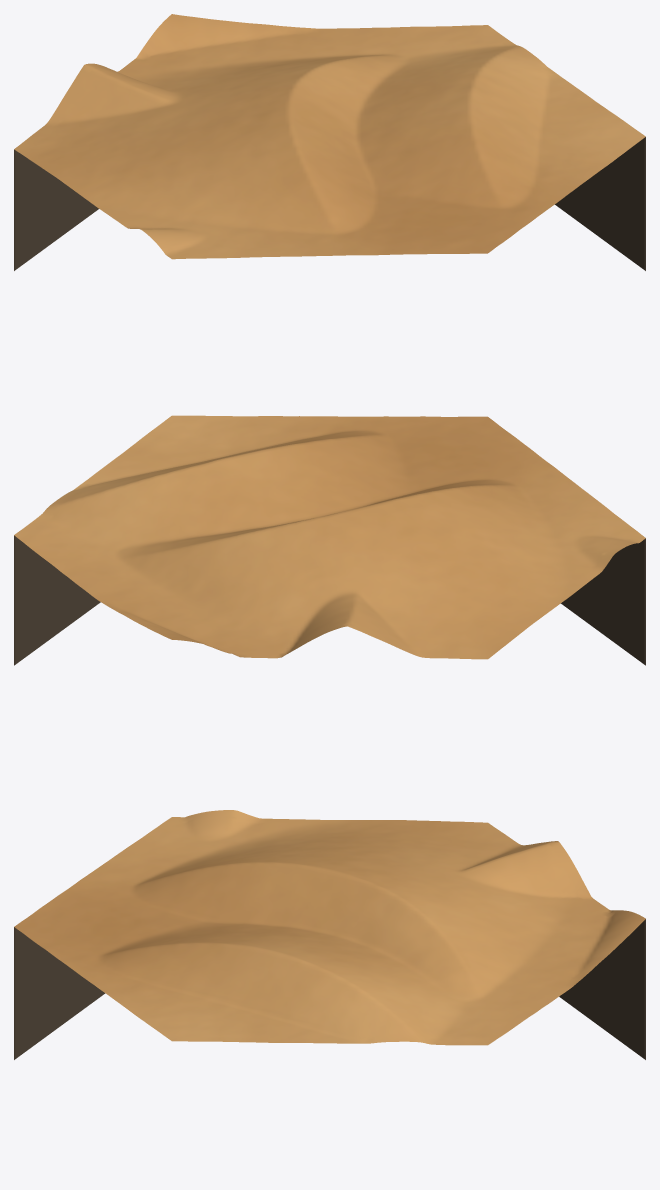
3 views of the same model, one above another, from view 1: azimuth 30°, elevation 25°; view 2: azimuth 150°, elevation 25°; view 3: azimuth 270°, elevation 25° (orthographic).
Parts seen in each view (by area): view 1: terrain, hex_side_cut; view 2: terrain, hex_side_cut; view 3: terrain, hex_side_cut.
Part boxes in pixels (x1=…): terrain: x1=14, y1=14, x2=645, y2=259; hex_side_cut: x1=14, y1=137, x2=645, y2=270; terrain: x1=14, y1=415, x2=645, y2=659; hex_side_cut: x1=14, y1=535, x2=645, y2=665; terrain: x1=14, y1=810, x2=645, y2=1045; hex_side_cut: x1=14, y1=919, x2=645, y2=1059.
Bounding box in the file's own units: 4330 × 1483 × 5000.
